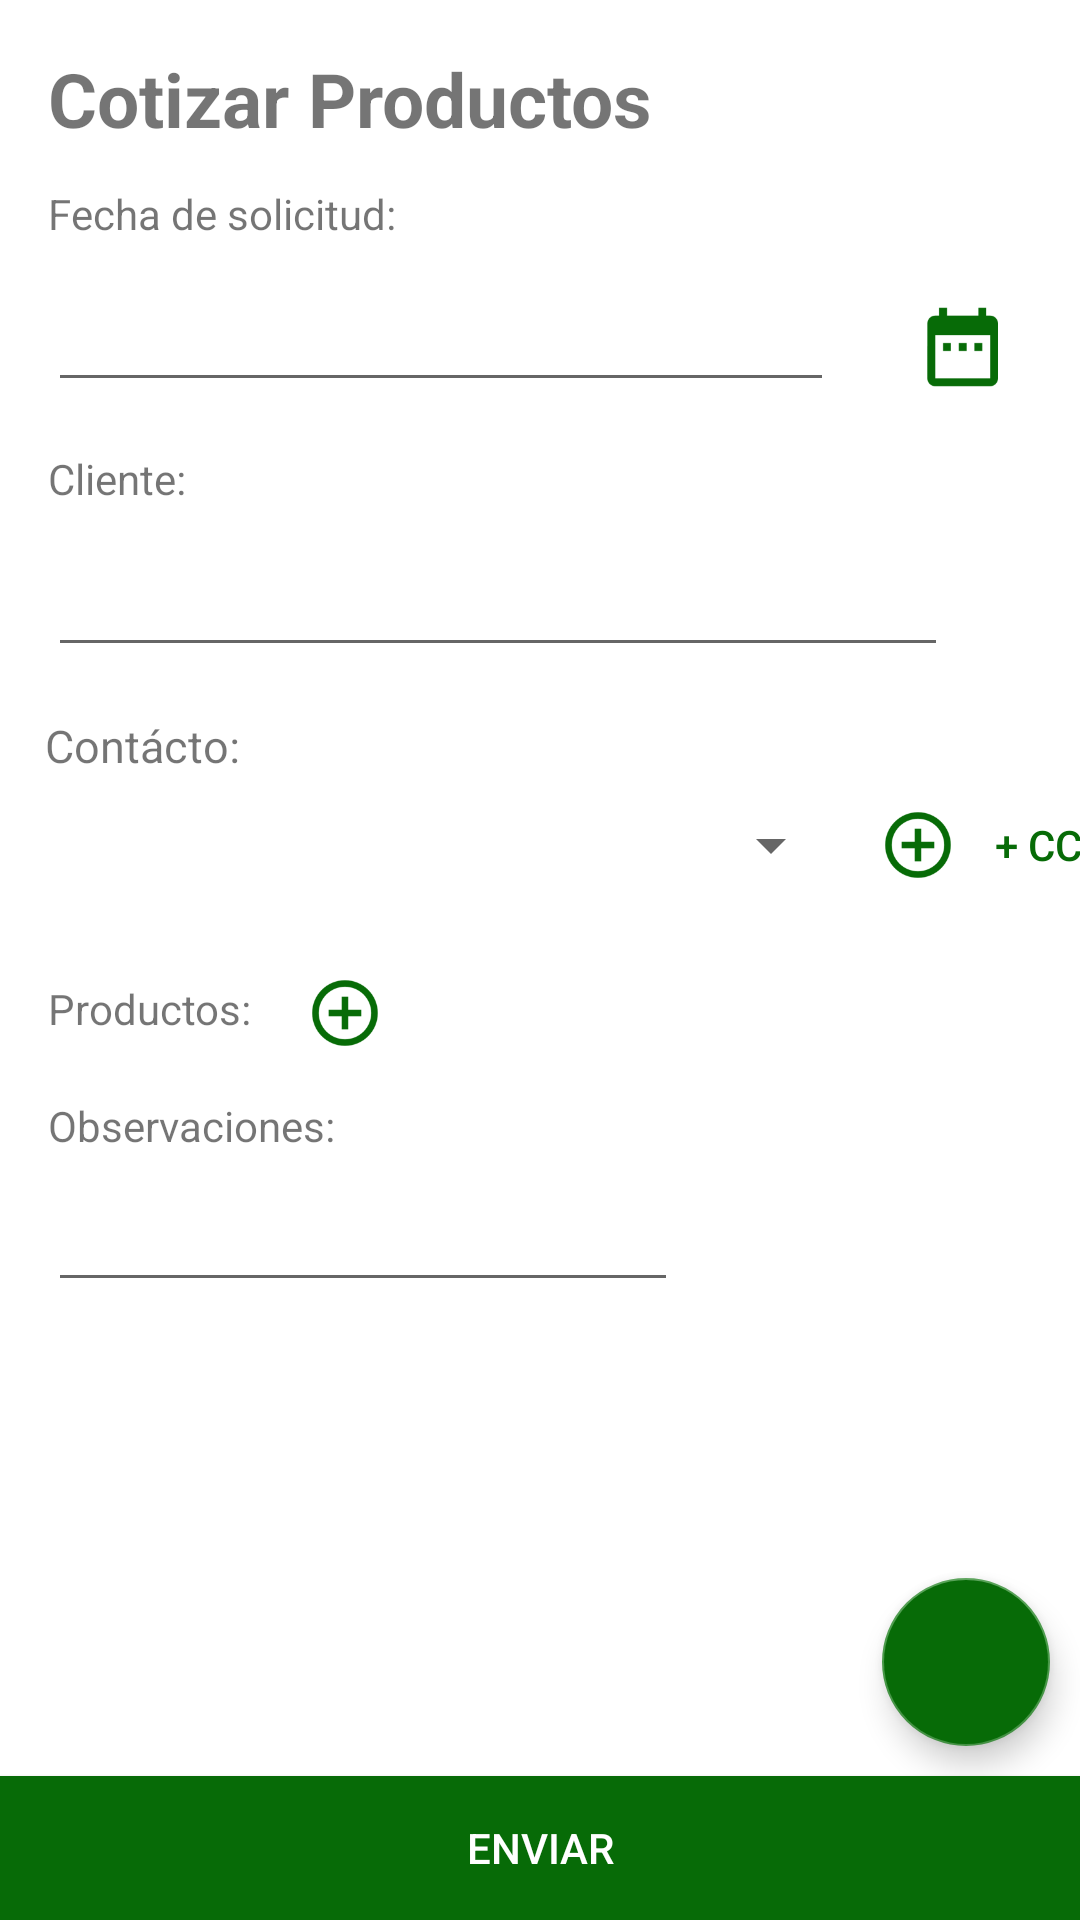

Point at icon controls on the screen. Image size 1080*1920, points as [x,y].
crear: [918,845], [345,1013]
fecha: [962,347]
